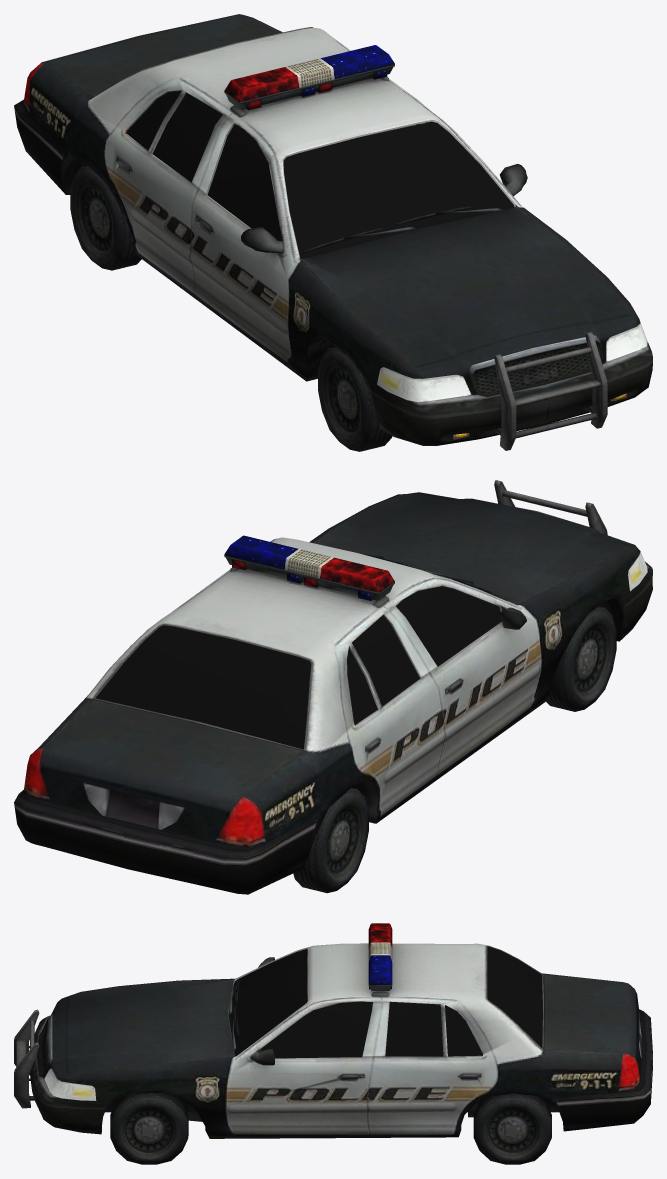
Rendered from police-noir-blanc.glb.
3 views of the same model, one above another, from view 1: azimuth 30°, elevation 25°; view 2: azimuth 150°, elevation 25°; view 3: azimuth 270°, elevation 25° (orthographic). The views are drawn at different scales.
Visible parts, largest first — view 1: Body_1, Body_0, Pneu_FR_3, Pneu_RR_5, Gyrophare_D, Gyrophare_G, Body_6; view 2: Body_1, Body_0, Pneu_RR_5, Pneu_FR_3, Gyrophare_D, Gyrophare_G, Body_6; view 3: Body_1, Body_0, Pneu_FL_2, Pneu_RL_4, Gyrophare_G, Gyrophare_D.
Boxes of the visible parts, box(x1,y1,x2,y2) form: Body_1: box(14, 14, 652, 450); Body_0: box(126, 90, 514, 258); Pneu_FR_3: box(318, 346, 392, 451); Pneu_RR_5: box(70, 165, 141, 270); Gyrophare_D: box(224, 45, 387, 103); Gyrophare_G: box(243, 45, 394, 101); Body_6: box(226, 67, 393, 110); Body_1: box(14, 480, 652, 894); Body_0: box(95, 553, 501, 749); Pneu_RR_5: box(293, 787, 368, 893); Pneu_FR_3: box(546, 606, 616, 711); Gyrophare_D: box(227, 545, 394, 594); Gyrophare_G: box(224, 535, 385, 590); Body_6: box(226, 557, 393, 600); Body_1: box(14, 943, 652, 1138); Body_0: box(228, 946, 542, 1058); Pneu_FL_2: box(110, 1092, 188, 1164); Pneu_RL_4: box(473, 1093, 551, 1164); Gyrophare_G: box(368, 924, 392, 986); Gyrophare_D: box(368, 923, 392, 975).
Size of the model in its own units: 1.91 by 1.52 by 5.12.
Materials: 3 (2 with a texture image).
